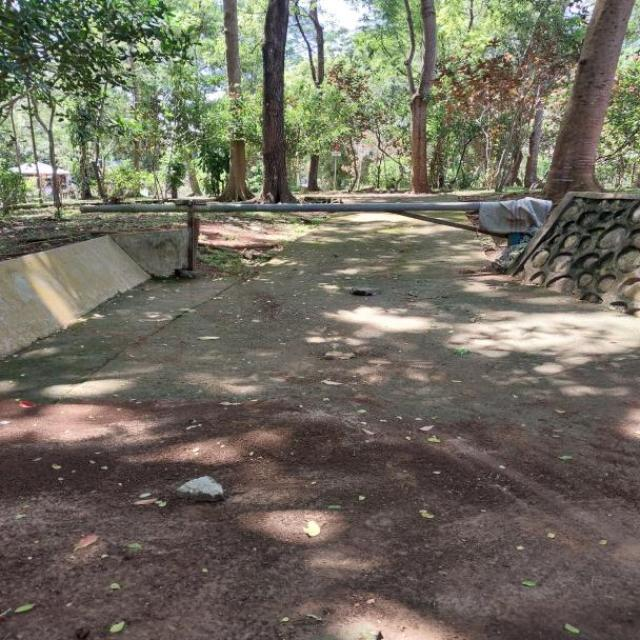barrier ahead at: (74, 196, 555, 224)
